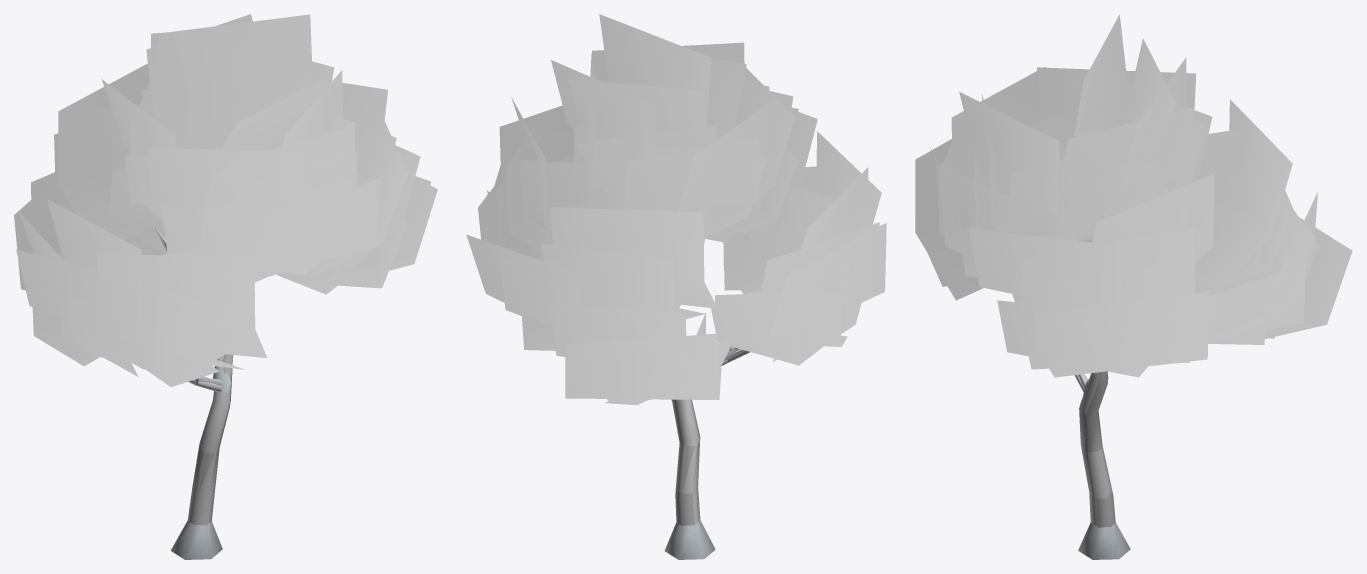
The model's file is Tree_Small_2_Snow.fbx.
The picture shows the model from 3 angles, left to right: view 1: azimuth 30°, elevation 25°; view 2: azimuth 150°, elevation 25°; view 3: azimuth 270°, elevation 25°; orthographic projection. The views are drawn at different scales.
Visible parts, largest first — view 1: Tree_Small_2_Snow_LOD0, Tree_Small_2_Snow_Colider; view 2: Tree_Small_2_Snow_LOD0, Tree_Small_2_Snow_Colider; view 3: Tree_Small_2_Snow_LOD0, Tree_Small_2_Snow_Colider.
Part boxes in pixels (x1,y1,x2,y2): Tree_Small_2_Snow_LOD0: (14,14,437,559); Tree_Small_2_Snow_Colider: (192,393,230,492); Tree_Small_2_Snow_LOD0: (466,14,886,559); Tree_Small_2_Snow_Colider: (671,399,699,526); Tree_Small_2_Snow_LOD0: (915,14,1352,559); Tree_Small_2_Snow_Colider: (1080,371,1115,527).
Size of what is drawn, in the model's own units: 579 by 748 by 565.
